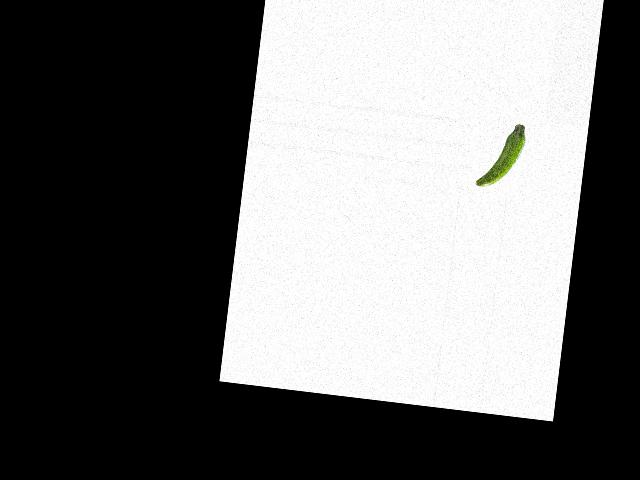cucumber: (474, 119, 527, 191)
